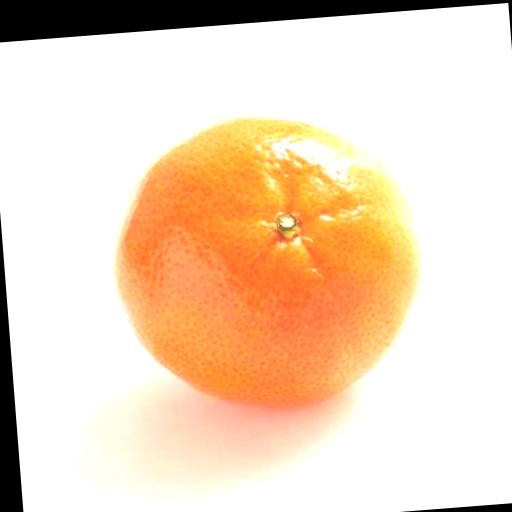fruit: (112, 117, 422, 407)
